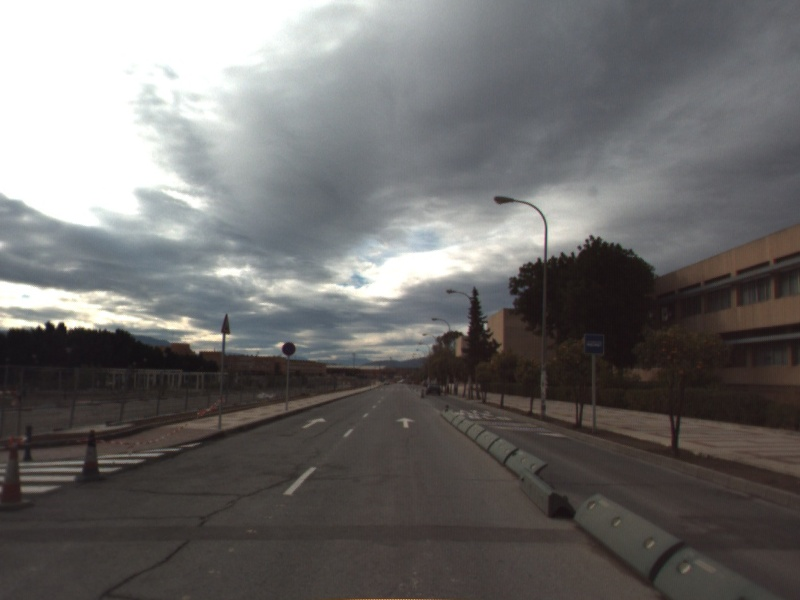STRAIGHT: (299, 415, 329, 430), (394, 415, 418, 430)
